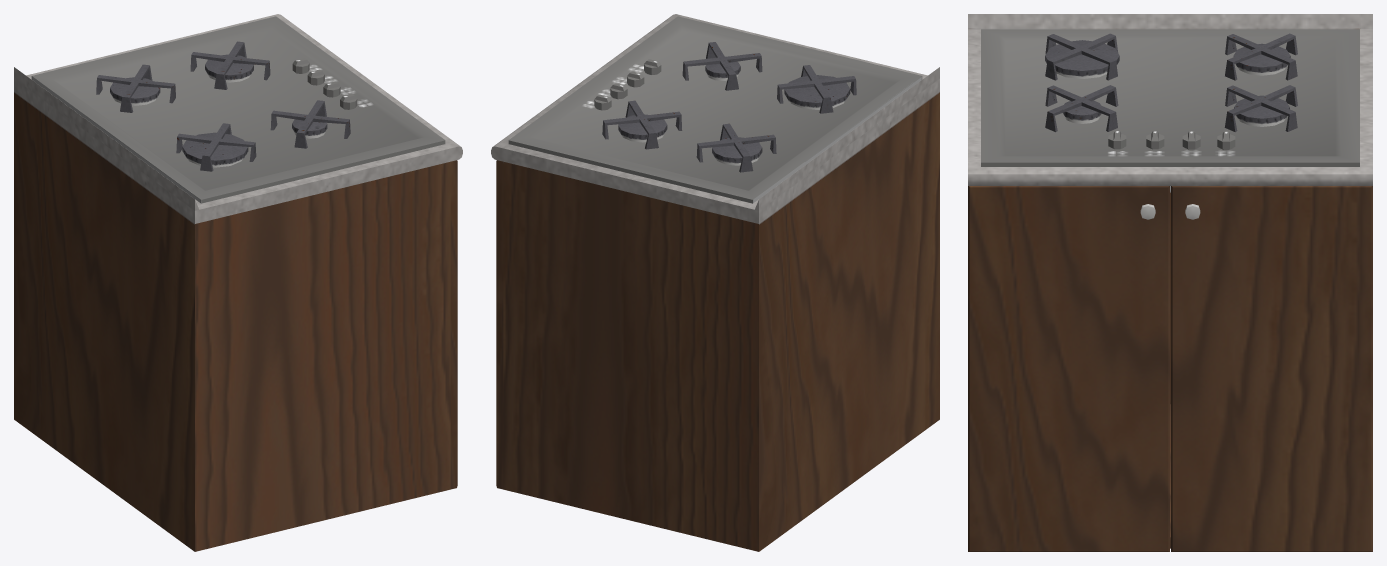
File: CabinetWithStove.obj
3 renders of one model, left to right at view 1: azimuth 30°, elevation 25°; view 2: azimuth 150°, elevation 25°; view 3: azimuth 270°, elevation 25°, orthographic. The views are drawn at different scales.
Visible parts, largest first — view 1: KitchenCabinetWithStove; view 2: KitchenCabinetWithStove; view 3: KitchenCabinetWithStove.
Part boxes in pixels (<box>): KitchenCabinetWithStove: <box>14,14,462,551</box>; KitchenCabinetWithStove: <box>491,14,939,551</box>; KitchenCabinetWithStove: <box>968,14,1372,551</box>.
Size of the model in its own units: 0.6921 by 0.8728 by 0.8.
